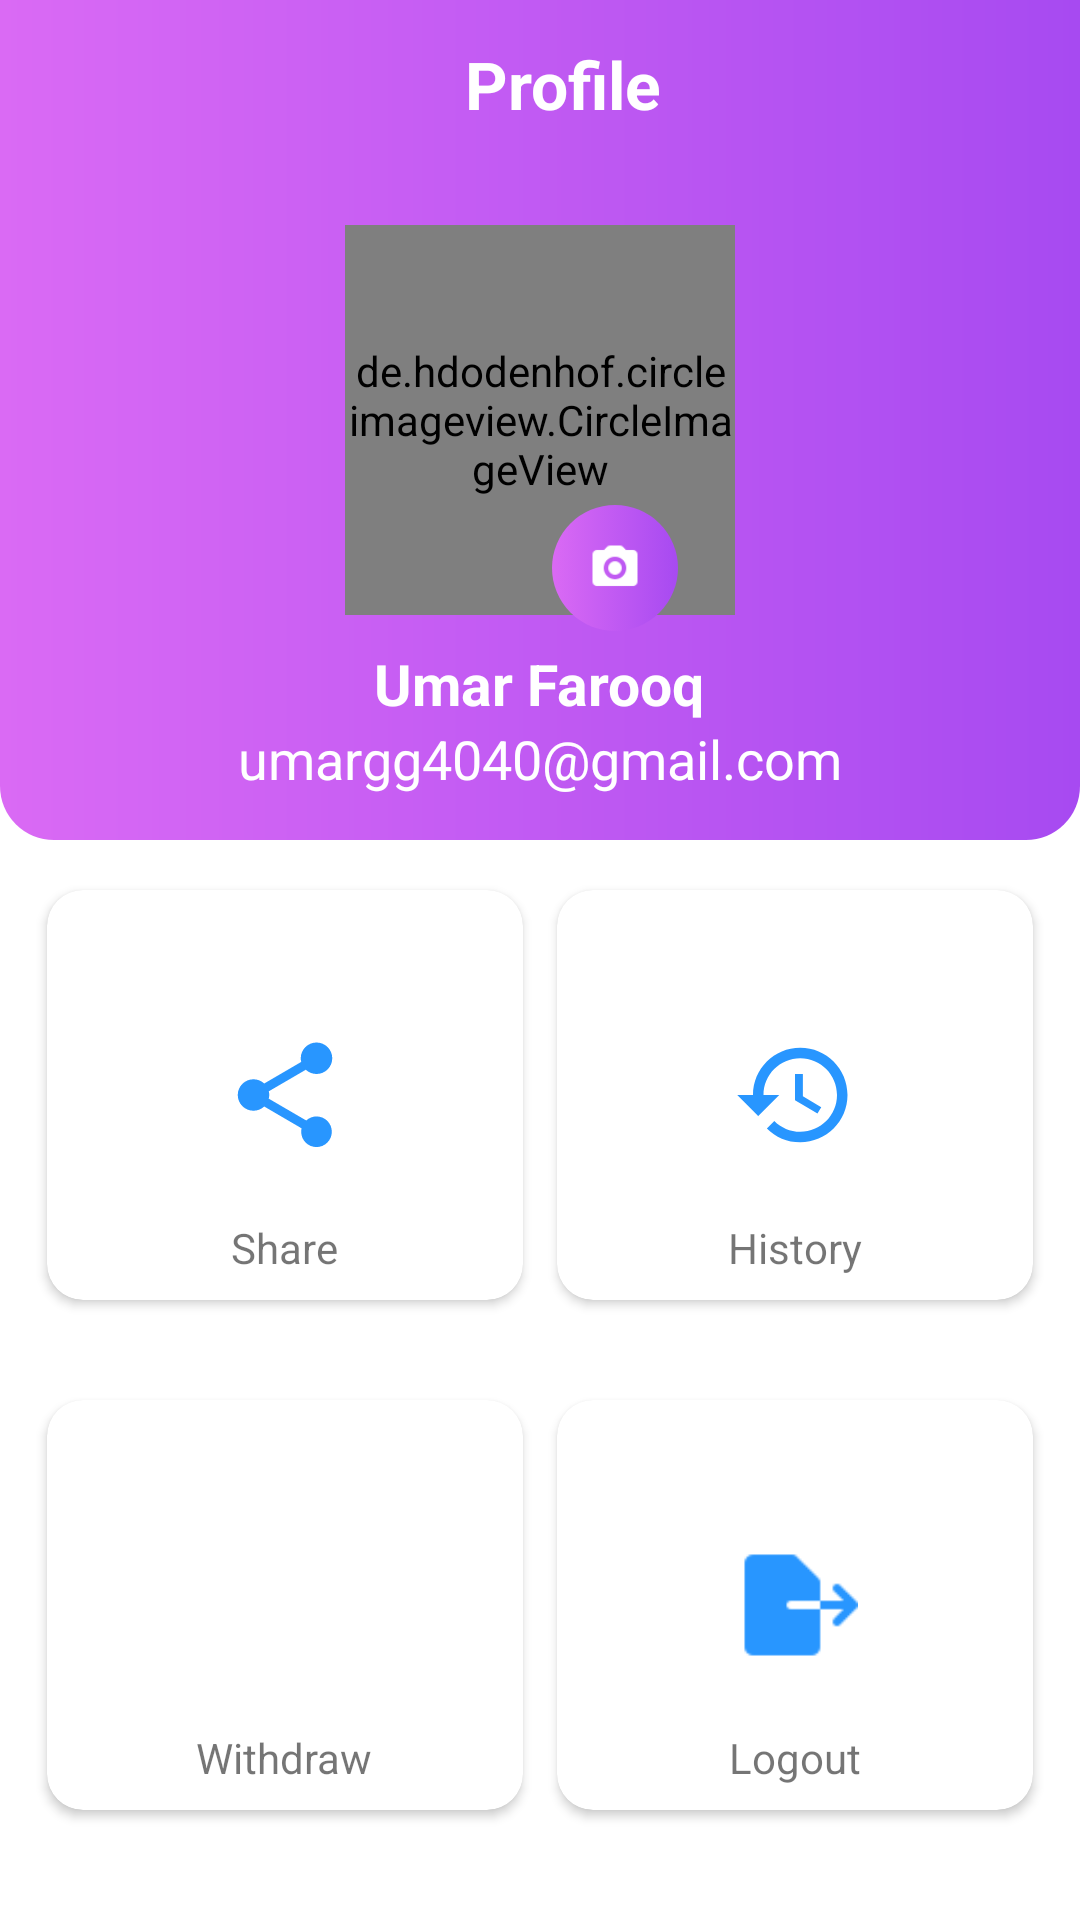

Where icons sit on this 1080px x 1920px app screen, as (x1, y1, x2, y2):
camera: (552, 505, 678, 631)
export: (744, 1554, 858, 1656)
